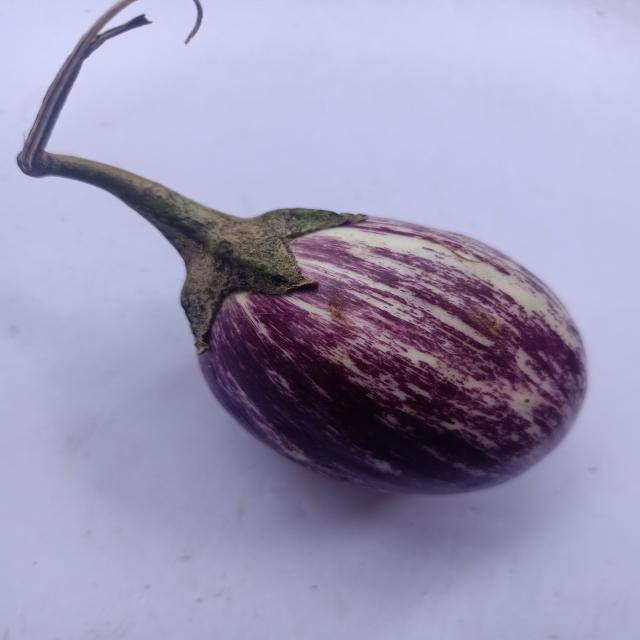Eggplant: (0, 0, 640, 504)
